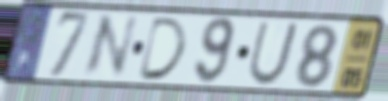7: (50, 8, 90, 81)
8: (291, 23, 340, 90)
9: (191, 15, 236, 88)
D: (134, 16, 190, 83)
N: (78, 13, 142, 81)
U: (245, 20, 302, 88)
